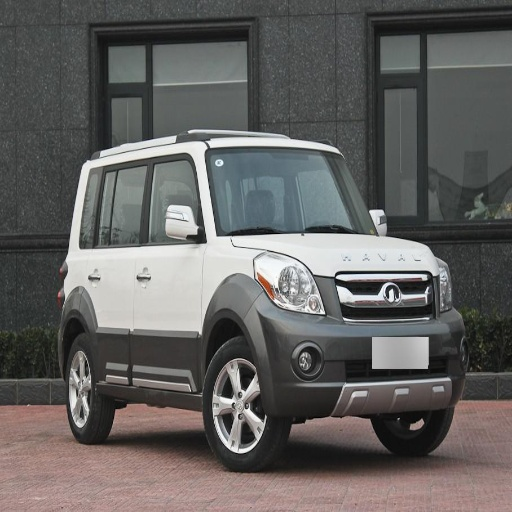front_bumper: (252, 263, 466, 418)
front_right_door: (134, 152, 206, 386)
front_right_light: (256, 253, 327, 315)
hood: (232, 237, 430, 276)
